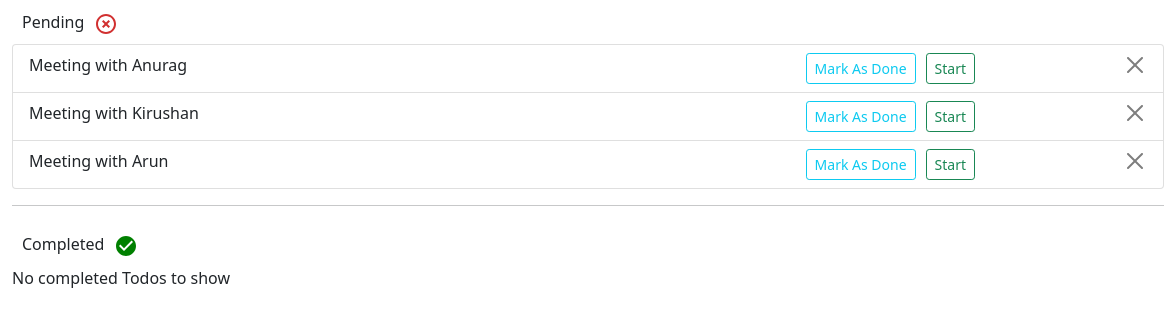
Scenario: TodoList › Start one meeting in pending list and other pending start wil be inactive
Click the button "Start" in the row of "Meeting with Anurag" at (950, 68), box [926,53,975,84]
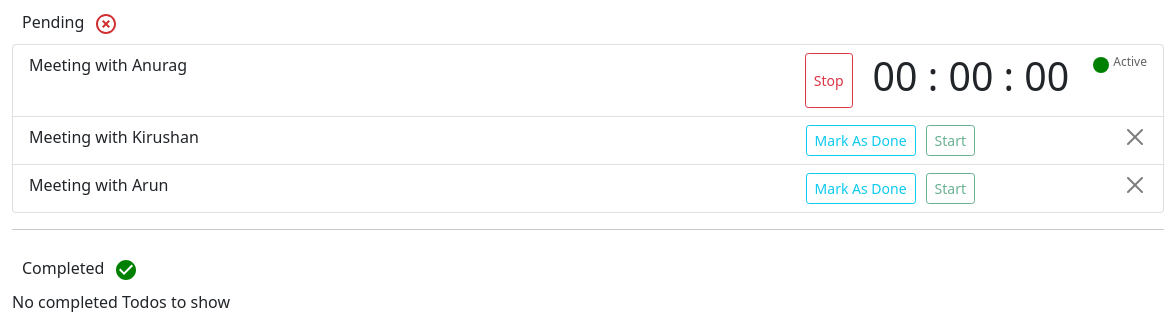
Now the button "Start" in the row of "Meeting with Kirushan" is disabled, box [926,125,975,156]
Now the button "Start" in the row of "Meeting with Arun" is disabled, box [926,173,975,204]
